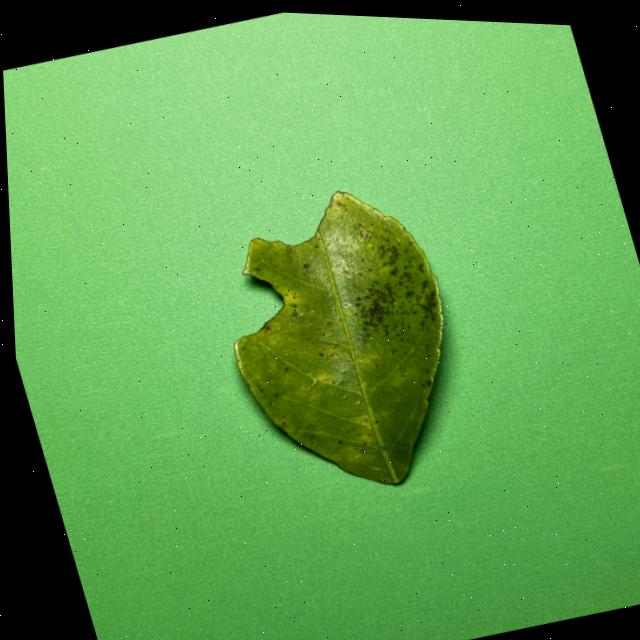sooty_mold: (235, 192, 442, 483)
